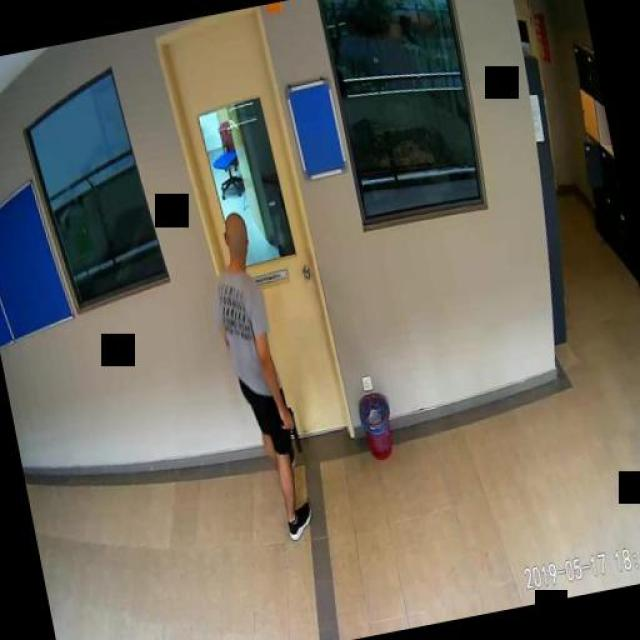gun: (278, 403, 302, 452)
